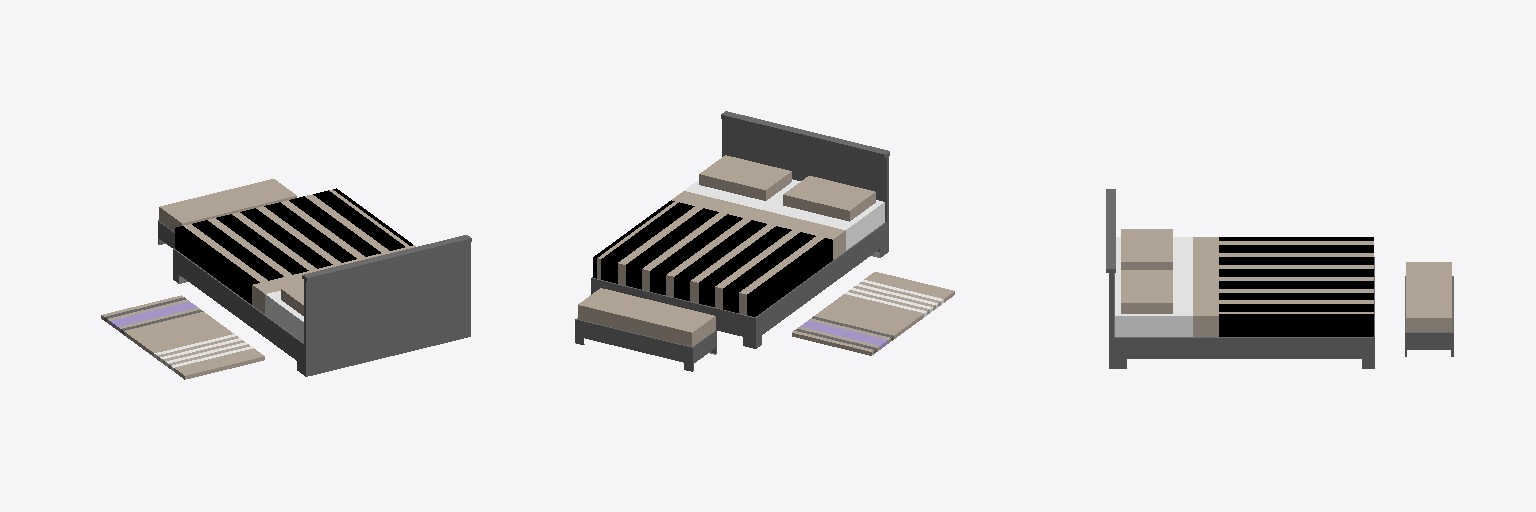
3 renders of one model, left to right at view 1: azimuth 30°, elevation 25°; view 2: azimuth 150°, elevation 25°; view 3: azimuth 270°, elevation 25°, orthographic.
Parts seen in each view (by area): view 1: pCube10; view 2: pCube10; view 3: pCube10.
Part boxes in pixels (x1,y1,x2,y2): pCube10: (101,179,471,379); pCube10: (575,111,954,371); pCube10: (1106,189,1453,368).
Size of the model in its own units: 2.44 by 0.9033 by 2.85.
9 materials, 4 textured.